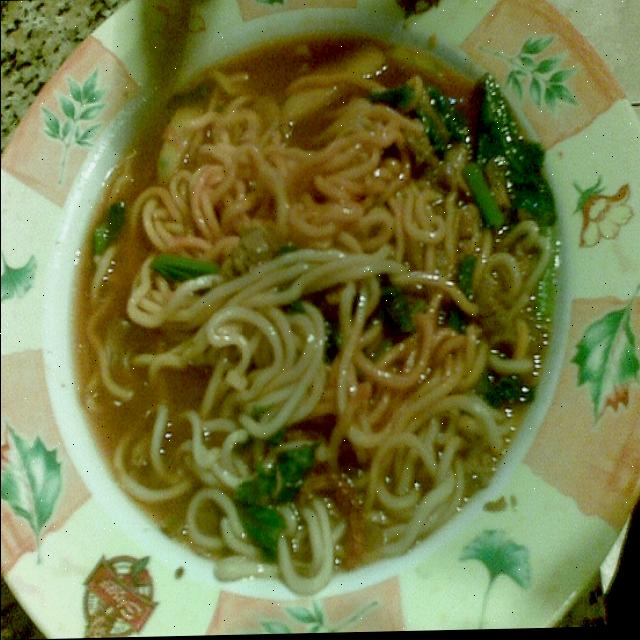面条主食: (6, 0, 626, 623)
